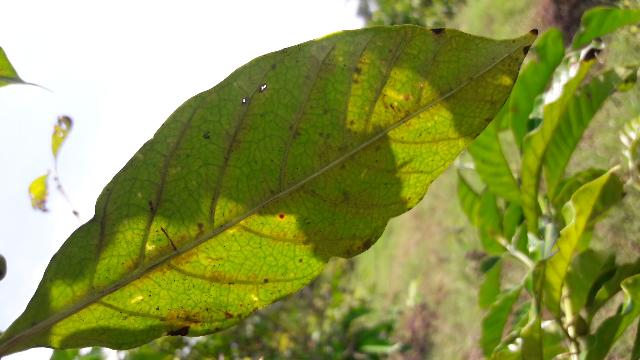red_spider_mite: (0, 23, 537, 357)
